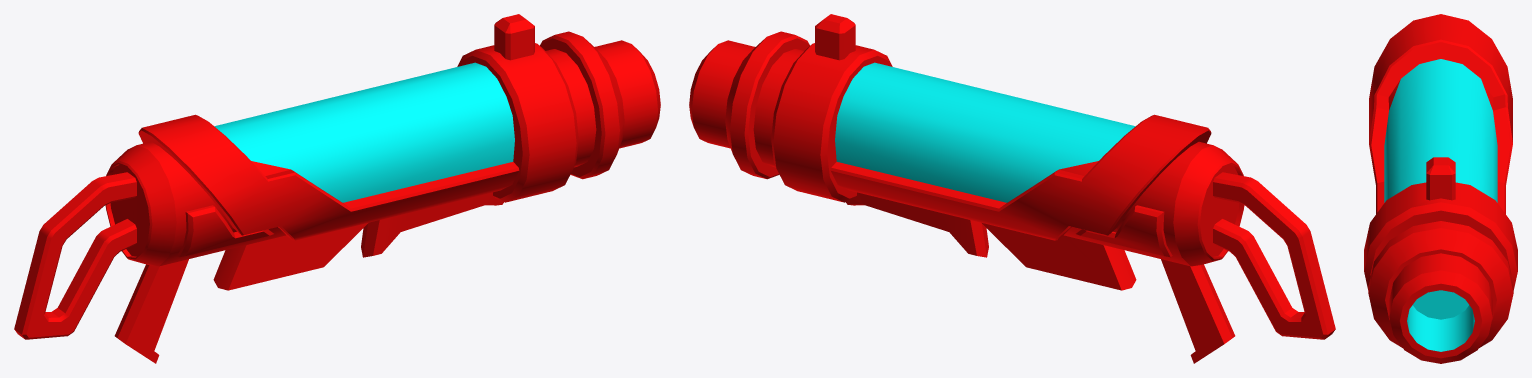
Rendered from SM_MainWeapon_02.fbx.
3 views of the same model, side by side, from view 1: azimuth 30°, elevation 25°; view 2: azimuth 150°, elevation 25°; view 3: azimuth 270°, elevation 25° (orthographic).
Parts seen in each view (by area): view 1: SM_mainweapon_02; view 2: SM_mainweapon_02; view 3: SM_mainweapon_02.
Boxes of the visible parts, box(x1,y1,x2,y2) form: SM_mainweapon_02: box(14, 14, 660, 363); SM_mainweapon_02: box(689, 14, 1335, 363); SM_mainweapon_02: box(1364, 14, 1517, 363).
Bounding box in the file's own units: 0.8863 × 0.3481 × 0.1931.
